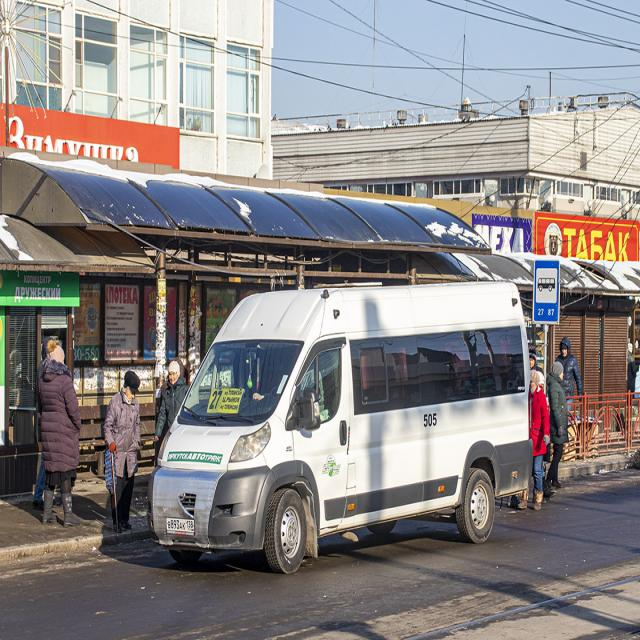number-of-bus: (210, 390, 225, 412)
